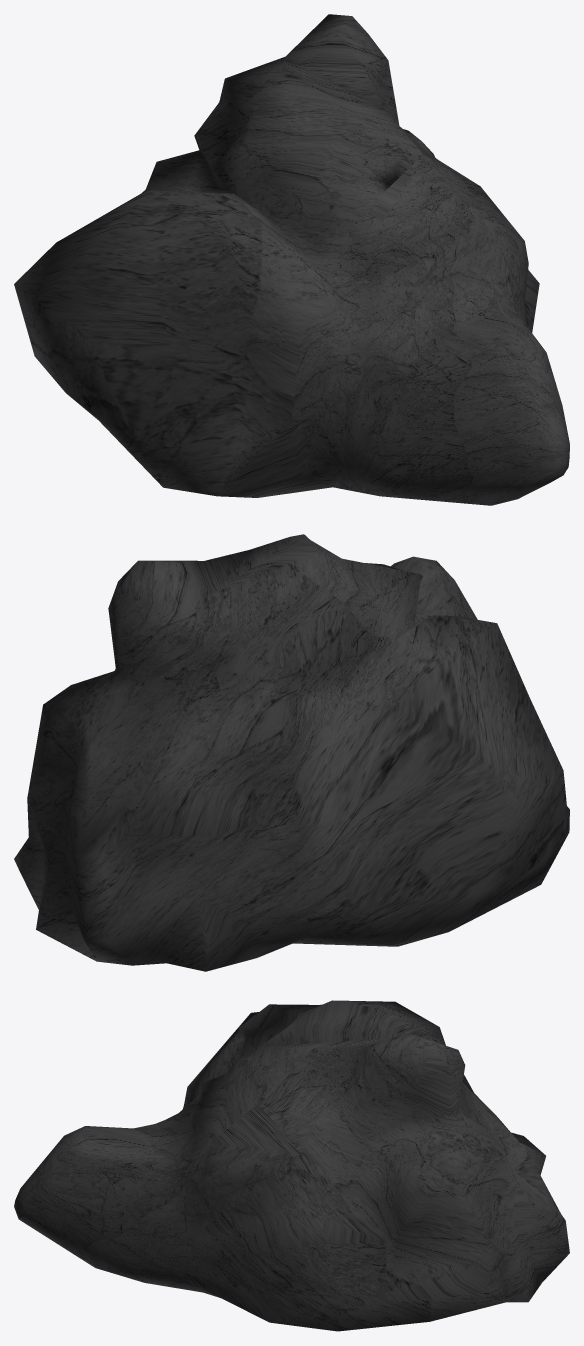
The model's file is RockM1.fbx.
3 views of the same model, one above another, from view 1: azimuth 30°, elevation 25°; view 2: azimuth 150°, elevation 25°; view 3: azimuth 270°, elevation 25° (orthographic). The views are drawn at different scales.
Parts seen in each view (by area): view 1: Cube.001; view 2: Cube.001; view 3: Cube.001.
Boxes of the visible parts, x1=… form: Cube.001: x1=14, y1=14, x2=569, y2=505; Cube.001: x1=14, y1=534, x2=569, y2=971; Cube.001: x1=14, y1=1000, x2=569, y2=1331.
Size of the model in its own units: 595 by 440 by 808.
Materials: 1 (1 with a texture image).
